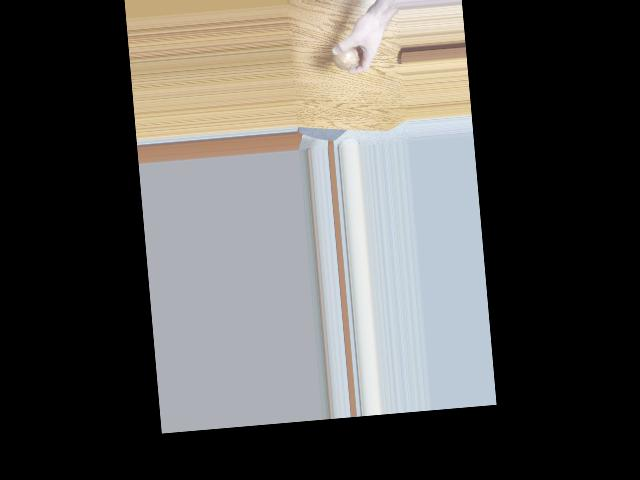onion: (333, 43, 359, 71)
